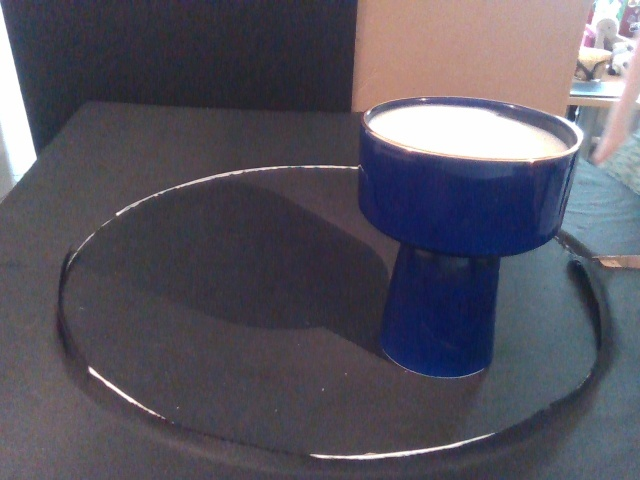candle: (357, 94, 586, 382)
